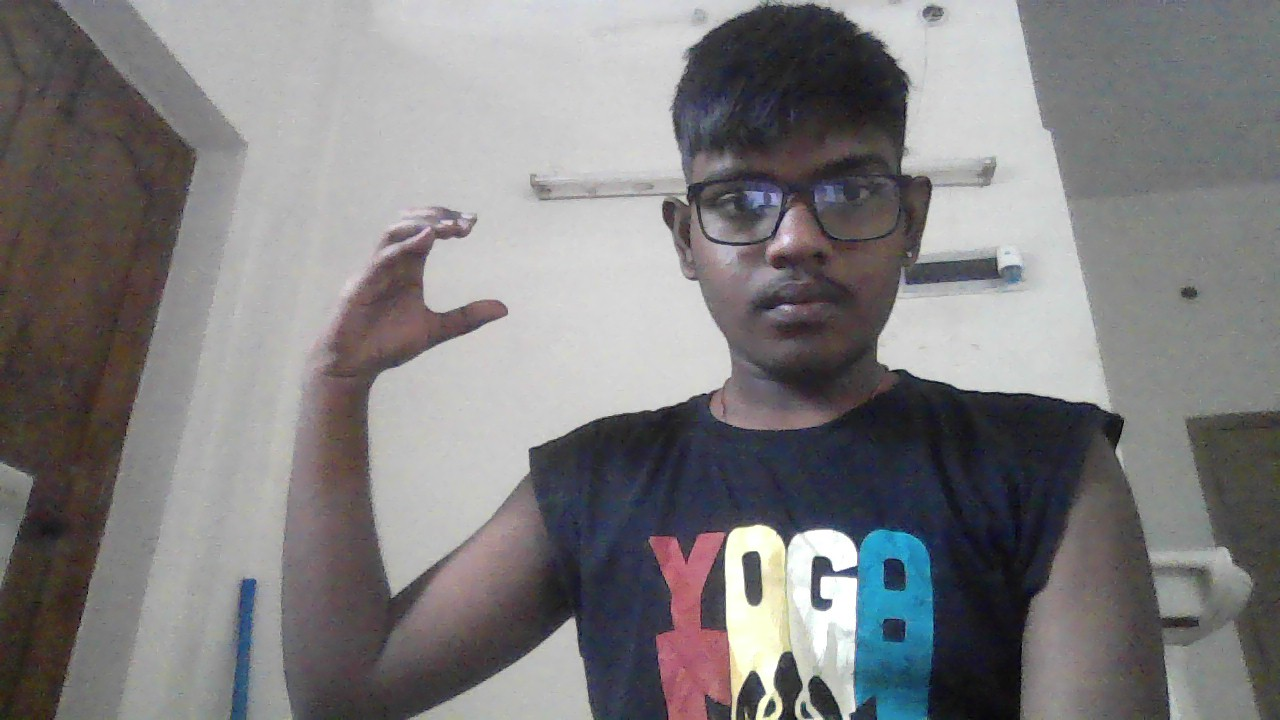C: (336, 207, 508, 385)
